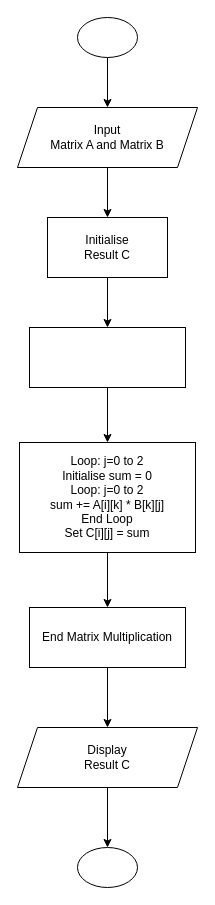
This 215x905 diagram has some shape labels left out. The centre of each missing label's shape, as x and y in pixels:
"Matrix Multiplication Loop i=0 to 2" belongs at pixel 107 357.
"Start" belongs at pixel 107 37.
"Stop" belongs at pixel 107 867.
